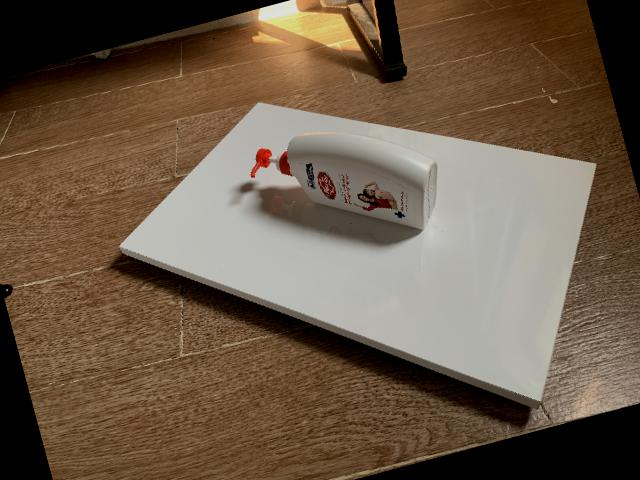life-buoy: (251, 131, 438, 229)
